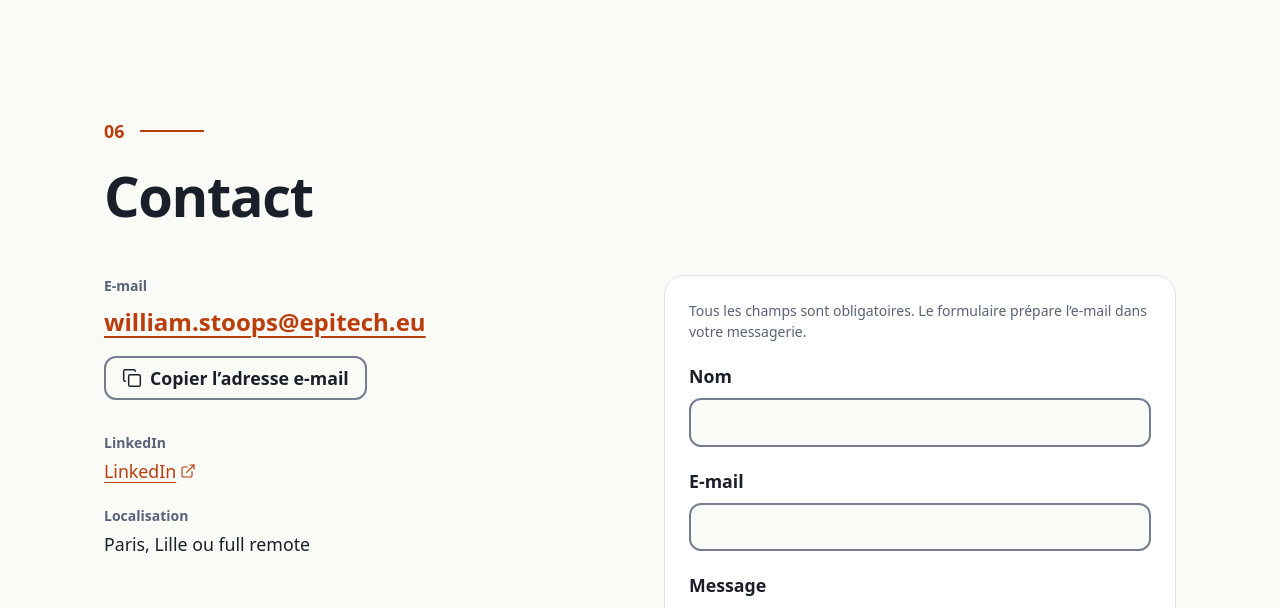
Test: ContactSection › copies the e-mail address in one click and says so
The width and height of the screenshot is (1280, 608).
What coordinates should you click on to do the following:
click the button "Copier l’adresse e-mail"
I would click on:
 (235, 378)
Its box is [104, 356, 367, 400].
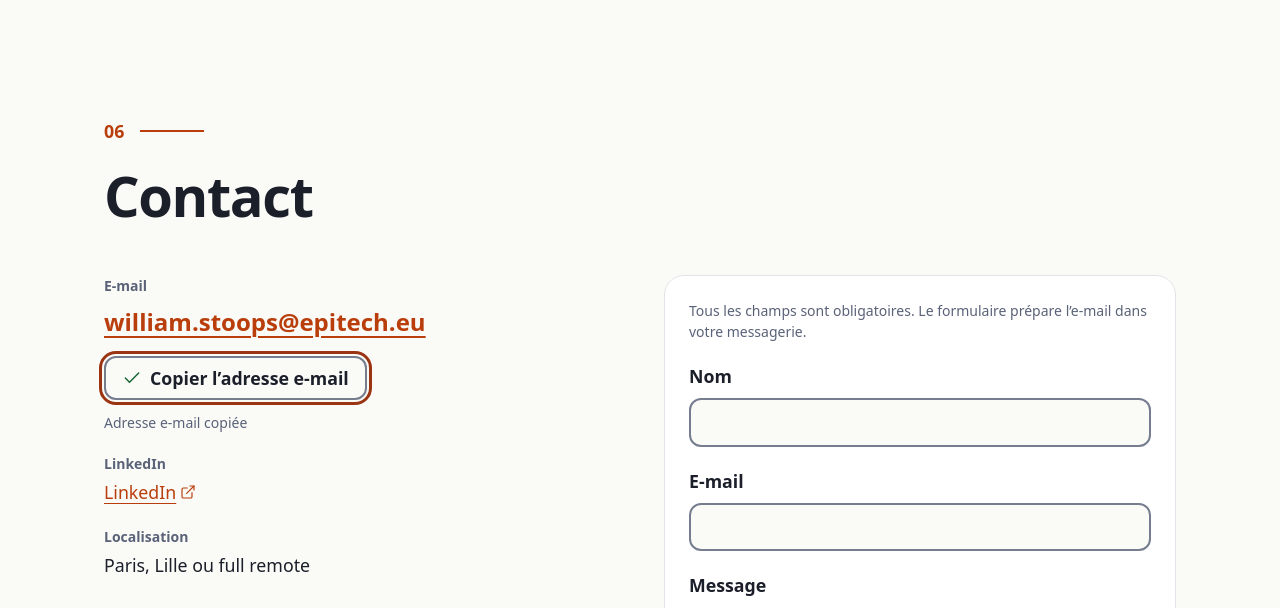
Expected: the text "Adresse e-mail copiée" is shown, [104, 412, 247, 433]
